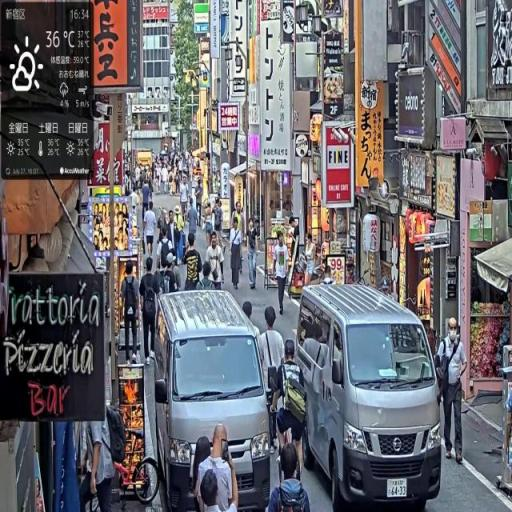person: (271, 339, 308, 476), (436, 315, 469, 468), (195, 423, 240, 512), (266, 441, 313, 512), (140, 254, 163, 366), (120, 260, 143, 370), (273, 230, 292, 319), (184, 233, 205, 291), (207, 231, 226, 292), (230, 215, 244, 292), (248, 216, 260, 293), (144, 203, 158, 262), (195, 176, 205, 228)
